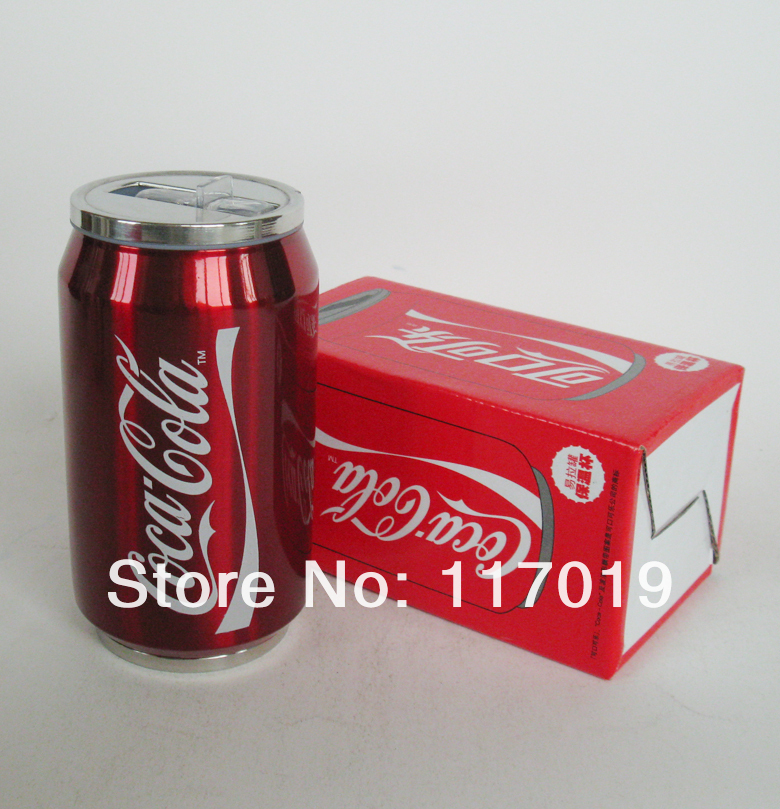can: (51, 152, 331, 685)
